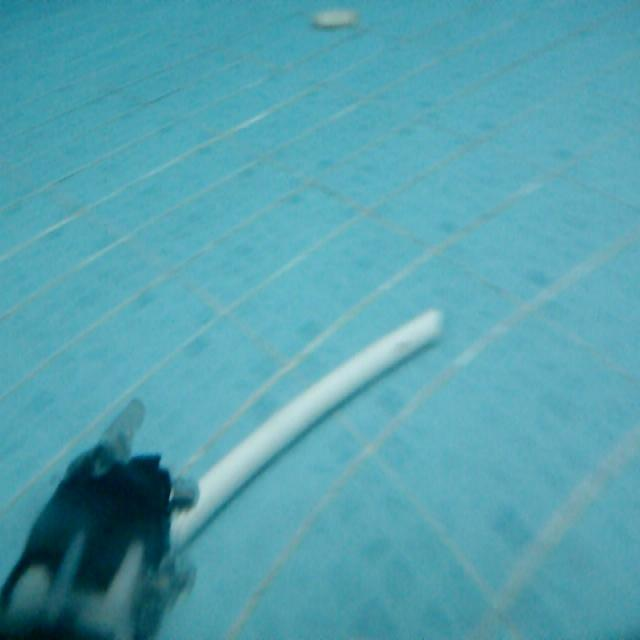Cube: (161, 300, 446, 561)
